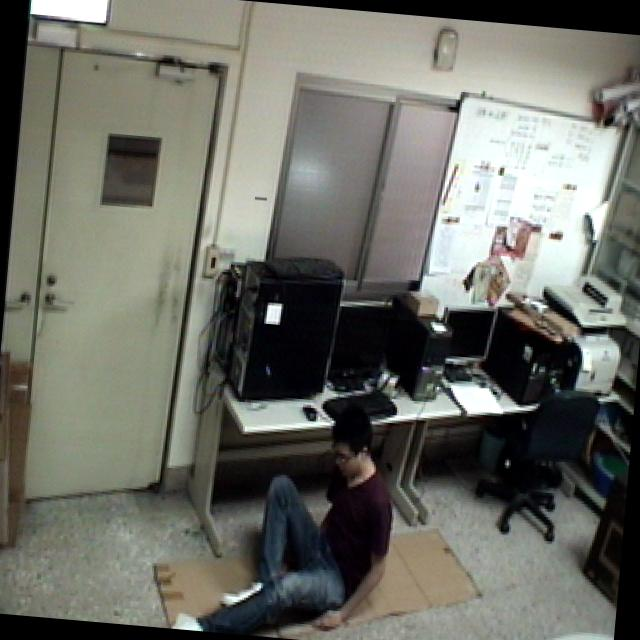sit: (168, 385, 405, 640)
